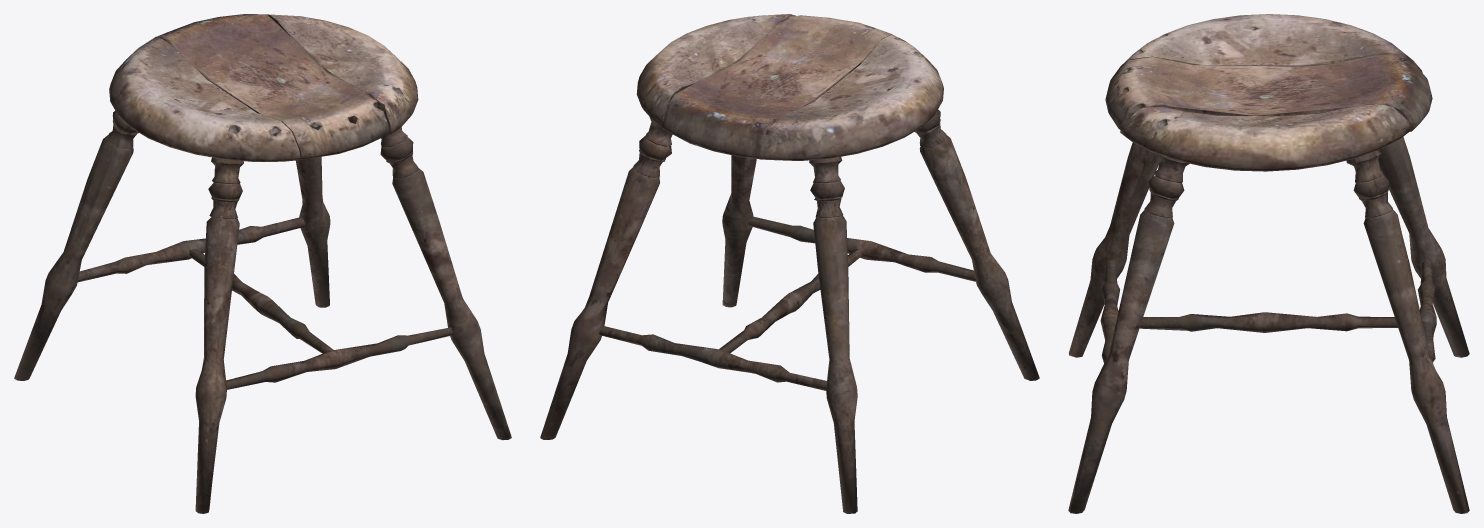
The model's file is wooden_stool_01.glb.
3 renders of one model, left to right at view 1: azimuth 30°, elevation 25°; view 2: azimuth 150°, elevation 25°; view 3: azimuth 270°, elevation 25°, orthographic. The views are drawn at different scales.
Visible parts, largest first — view 1: wooden_stool_01; view 2: wooden_stool_01; view 3: wooden_stool_01.
Boxes of the visible parts, bbox=[...] form: wooden_stool_01: bbox=[14, 14, 511, 513]; wooden_stool_01: bbox=[540, 14, 1039, 513]; wooden_stool_01: bbox=[1068, 14, 1469, 513].
Size of the model in its own units: 0.4242 by 0.4365 by 0.4417.
Materials: 1 (1 with a texture image).
